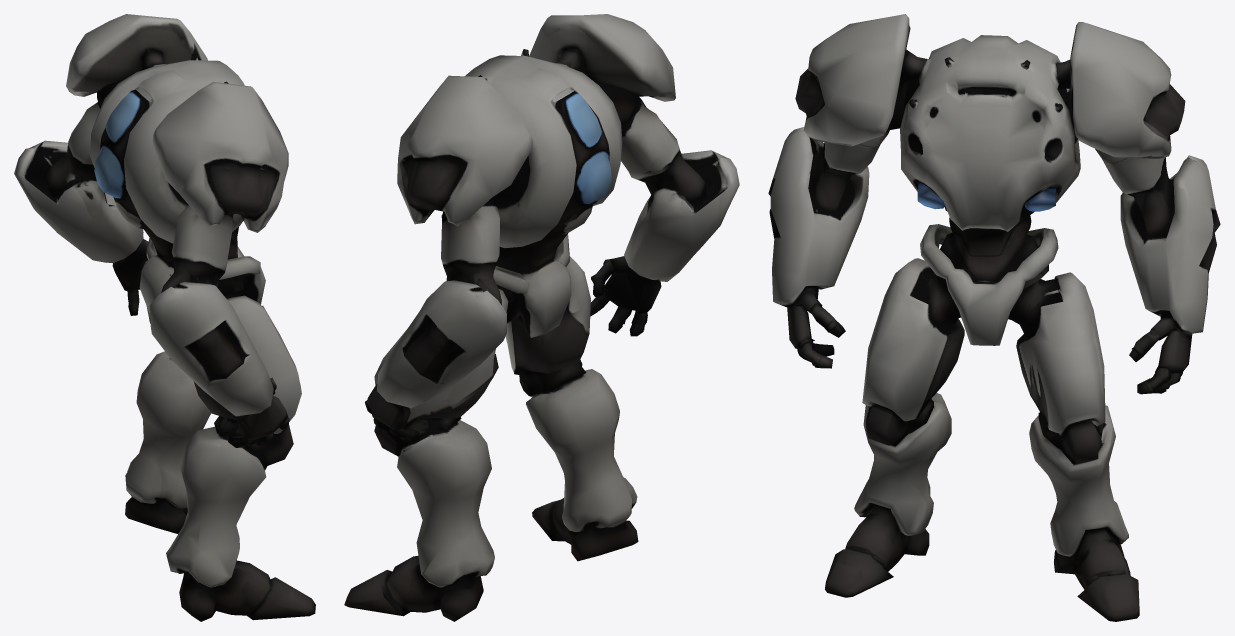
Rendered from reclamation_mother_source_meshopt.glb.
3 views of the same model, side by side, from view 1: azimuth 30°, elevation 25°; view 2: azimuth 150°, elevation 25°; view 3: azimuth 270°, elevation 25° (orthographic). The views are drawn at different scales.
Parts seen in each view (by area): view 1: reference_node_ce8e801e-9a2f-4ffe-9261-56c3b2dd8752; view 2: reference_node_ce8e801e-9a2f-4ffe-9261-56c3b2dd8752; view 3: reference_node_ce8e801e-9a2f-4ffe-9261-56c3b2dd8752.
Boxes of the visible parts, bbox=[...] form: reference_node_ce8e801e-9a2f-4ffe-9261-56c3b2dd8752: bbox=[14, 14, 315, 621]; reference_node_ce8e801e-9a2f-4ffe-9261-56c3b2dd8752: bbox=[344, 14, 739, 621]; reference_node_ce8e801e-9a2f-4ffe-9261-56c3b2dd8752: bbox=[768, 14, 1220, 621].
Size of the model in its own units: 0.4668 by 0.998 by 0.752.
Materials: 1 (1 with a texture image).
